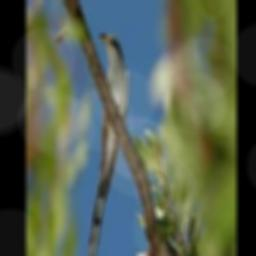Cuckoo: (88, 33, 128, 256)
